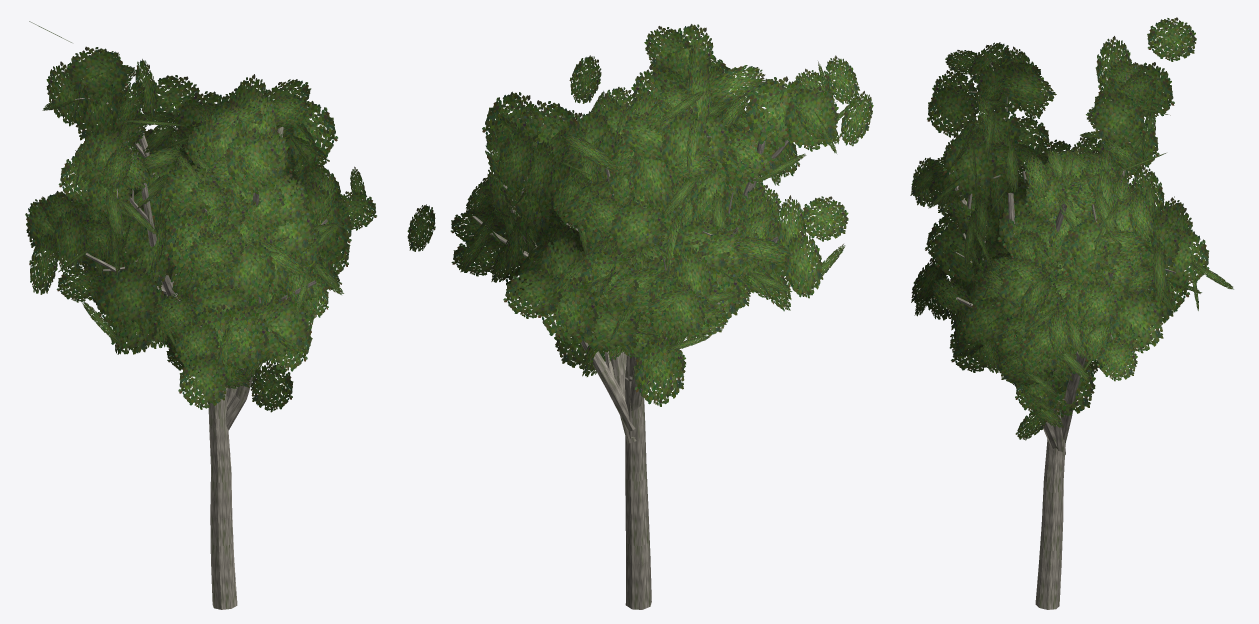
The model's file is Tree_Beech_3.gltf.
The picture shows the model from 3 angles, left to right: view 1: azimuth 30°, elevation 25°; view 2: azimuth 150°, elevation 25°; view 3: azimuth 270°, elevation 25°; orthographic projection. The views are drawn at different scales.
Visible parts, largest first — view 1: Tree_Beech_3; view 2: Tree_Beech_3; view 3: Tree_Beech_3.
Part boxes in pixels (bbox=[...]): Tree_Beech_3: bbox=[25, 21, 376, 609]; Tree_Beech_3: bbox=[407, 24, 873, 609]; Tree_Beech_3: bbox=[910, 17, 1233, 609].
Bounding box in the file's own units: 14 × 20.85 × 12.1.
Materials: 2 (2 with a texture image).
